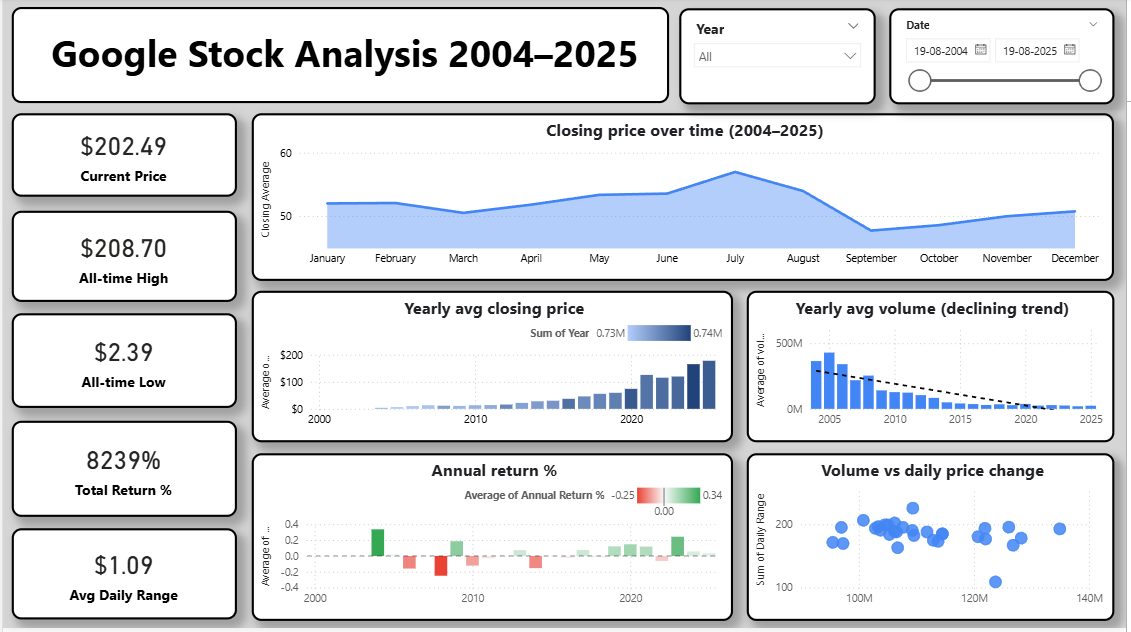

This screenshot's page, from the dashboard's own definition file:
{"tool":"powerbi","page":{"name":"Overview","canvas":[1280,720],"ordinal":0},"visuals":[{"type":"textbox","box":[10,11.4,749.8,109.8],"z":0},{"type":"card","fields":{"Values":["GOOG.Latest  Close"]},"box":[10,132.6,256.6,95.5],"z":1000},{"type":"card","fields":{"Values":["Max(GOOG.high)"]},"box":[10,243.7,256.6,104.1],"z":2000},{"type":"card","fields":{"Values":["Min(GOOG.low)"]},"box":[10,360.6,256.6,108.3],"z":3000},{"type":"card","fields":{"Values":["GOOG.Total Return %"]},"box":[10,483.2,256.6,109.8],"z":4000},{"type":"lineChart","title":" Closing price over time (2004–2025)","fields":{"Y":["Avg(GOOG.close)"],"Category":["GOOG.date"]},"box":[283.7,132.6,983.5,191],"z":5000},{"type":"clusteredColumnChart","title":"Yearly avg closing price","fields":{"Category":["GOOG.date.Variation.Date Hierarchy.Year"],"Y":["Avg(GOOG.close)"]},"box":[283.7,335,548.8,172.5],"z":6000},{"type":"card","fields":{"Values":["GOOG.Avg Daily Range"]},"box":[10,605.8,256.6,104.1],"z":7000},{"type":"slicer","fields":{"Values":["GOOG.date"]},"box":[1010.6,12.8,256.6,109.8],"z":8000},{"type":"scatterChart","title":"Volume vs daily price change","fields":{"X":["Avg(GOOG.volume)"],"Y":["Sum(GOOG.Daily Range)"],"Category":["GOOG.date.Variation.Date Hierarchy.Day"]},"box":[848.1,520.3,419.1,191],"z":9000},{"type":"clusteredColumnChart","title":" Yearly avg volume (declining trend)","fields":{"Category":["GOOG.date.Variation.Date Hierarchy.Year"],"Y":["Avg(GOOG.volume)"]},"box":[848.1,335,419.1,172.5],"z":10000},{"type":"slicer","fields":{"Values":["GOOG.date.Variation.Date Hierarchy.Year"]},"box":[771.1,12.8,223.8,109.8],"z":11000},{"type":"clusteredColumnChart","title":" Annual return %","fields":{"Y":["Avg(GOOG.Annual Return %)"],"Category":["GOOG.date.Variation.Date Hierarchy.Year"]},"box":[284,520,549,191],"z":12000}]}

Visuals, with their boxes in screenshot pixels (x1, y1, x2, y2), scaled from the page's 1280x720 canvas onto the 1131x632 screenshot:
textbox: crop(9, 10, 671, 106)
card - GOOG.Latest  Close: crop(9, 116, 236, 200)
card - Max(GOOG.high): crop(9, 214, 236, 305)
card - Min(GOOG.low): crop(9, 317, 236, 412)
card - GOOG.Total Return %: crop(9, 424, 236, 521)
" Closing price over time (2004–2025)" lineChart: crop(251, 116, 1120, 284)
"Yearly avg closing price" clusteredColumnChart: crop(251, 294, 736, 445)
card - GOOG.Avg Daily Range: crop(9, 532, 236, 623)
slicer - GOOG.date: crop(893, 11, 1120, 108)
"Volume vs daily price change" scatterChart: crop(749, 457, 1120, 624)
" Yearly avg volume (declining trend)" clusteredColumnChart: crop(749, 294, 1120, 445)
slicer - GOOG.date.Variation.Date Hierarchy.Year: crop(681, 11, 879, 108)
" Annual return %" clusteredColumnChart: crop(251, 456, 736, 624)
